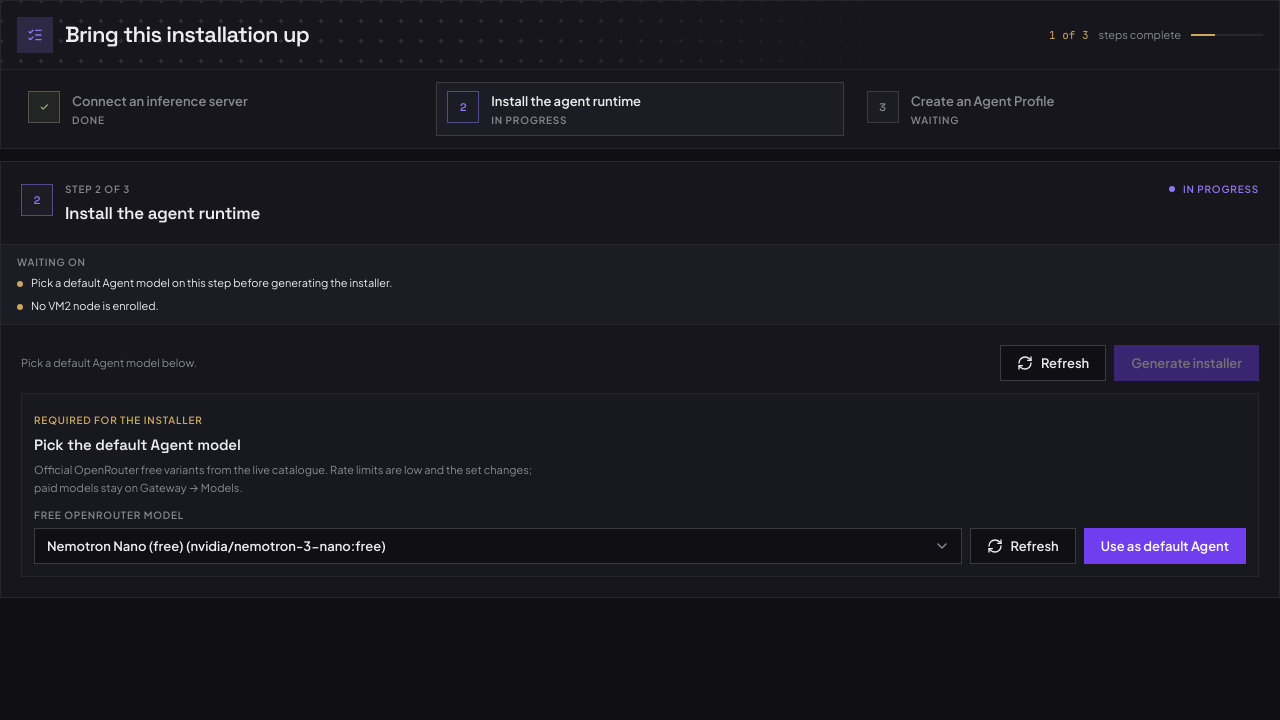
the setup wizard › picks the default Agent on step 2 so Generate does not require leaving Setup
This screenshot has width=1280, height=720.
Check: the button "Generate installer" is disabled, box [1114,345,1259,381]
Check: the dropdown labelled "Free OpenRouter model" shows "Nemotron Nano (free) (nvidia/nemotron-3-nano:free)", box [34,528,962,564]
Click the button "Use as default Agent" at {"x": 1165, "y": 546}, box [1084,528,1246,564]
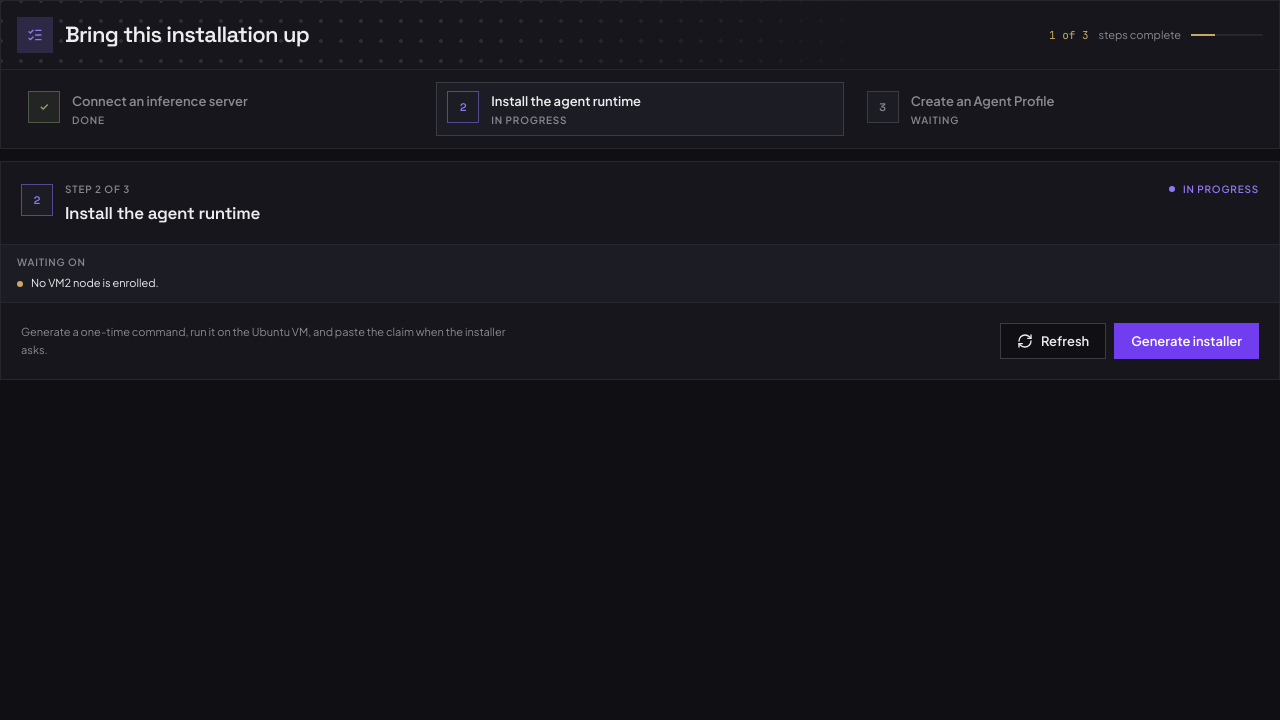
Check: the button "Generate installer" is enabled, box [1114,323,1259,359]
Check: the list item "default Agent model" is gone
